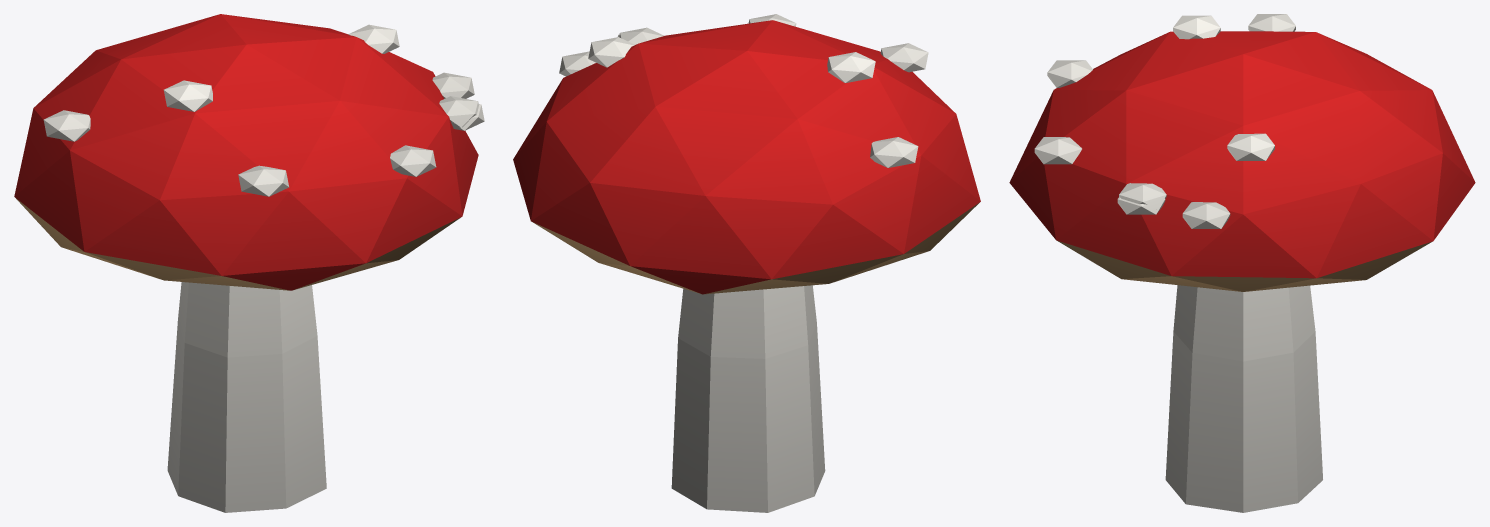
The model's file is mushroom_red_01.glb.
3 renders of one model, left to right at view 1: azimuth 30°, elevation 25°; view 2: azimuth 150°, elevation 25°; view 3: azimuth 270°, elevation 25°, orthographic. The views are drawn at different scales.
Visible parts, largest first — view 1: mushroom_red_01_LOD0; view 2: mushroom_red_01_LOD0; view 3: mushroom_red_01_LOD0.
Boxes of the visible parts, x1,y1,x2,y2 form: mushroom_red_01_LOD0: [14, 14, 484, 512]; mushroom_red_01_LOD0: [513, 14, 980, 512]; mushroom_red_01_LOD0: [1009, 14, 1475, 512].
Size of the model in its own units: 0.3916 by 0.4011 by 0.3979.
Materials: 1 (1 with a texture image).
